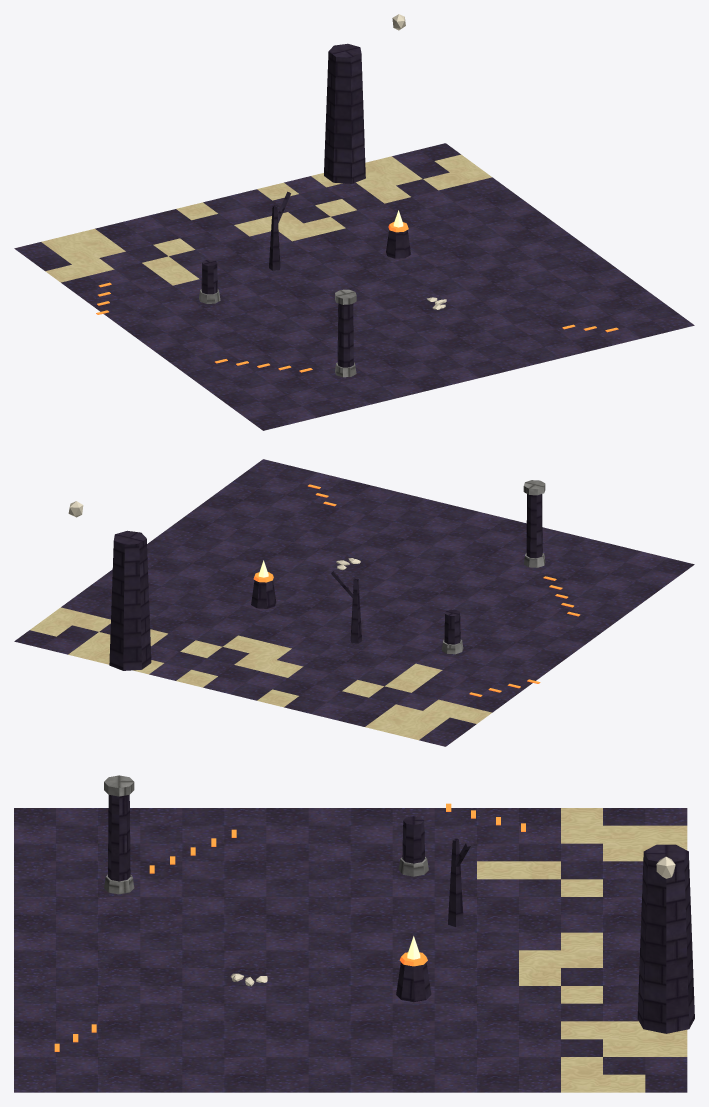
File: chunk_5_22.glb
3 views of the same model, one above another, from view 1: azimuth 30°, elevation 25°; view 2: azimuth 150°, elevation 25°; view 3: azimuth 270°, elevation 25° (orthographic). The views are drawn at different scales.
Parts seen in each view (by area): view 1: chunk_5_22; view 2: chunk_5_22; view 3: chunk_5_22.
Boxes of the visible parts, x1,y1,x2,y2 form: chunk_5_22: (14,14,694,430); chunk_5_22: (14,459,694,746); chunk_5_22: (14,775,694,1092).
Bounding box in the file's own units: 16.2 × 5.37 × 16.18.
8 materials, 5 textured.
